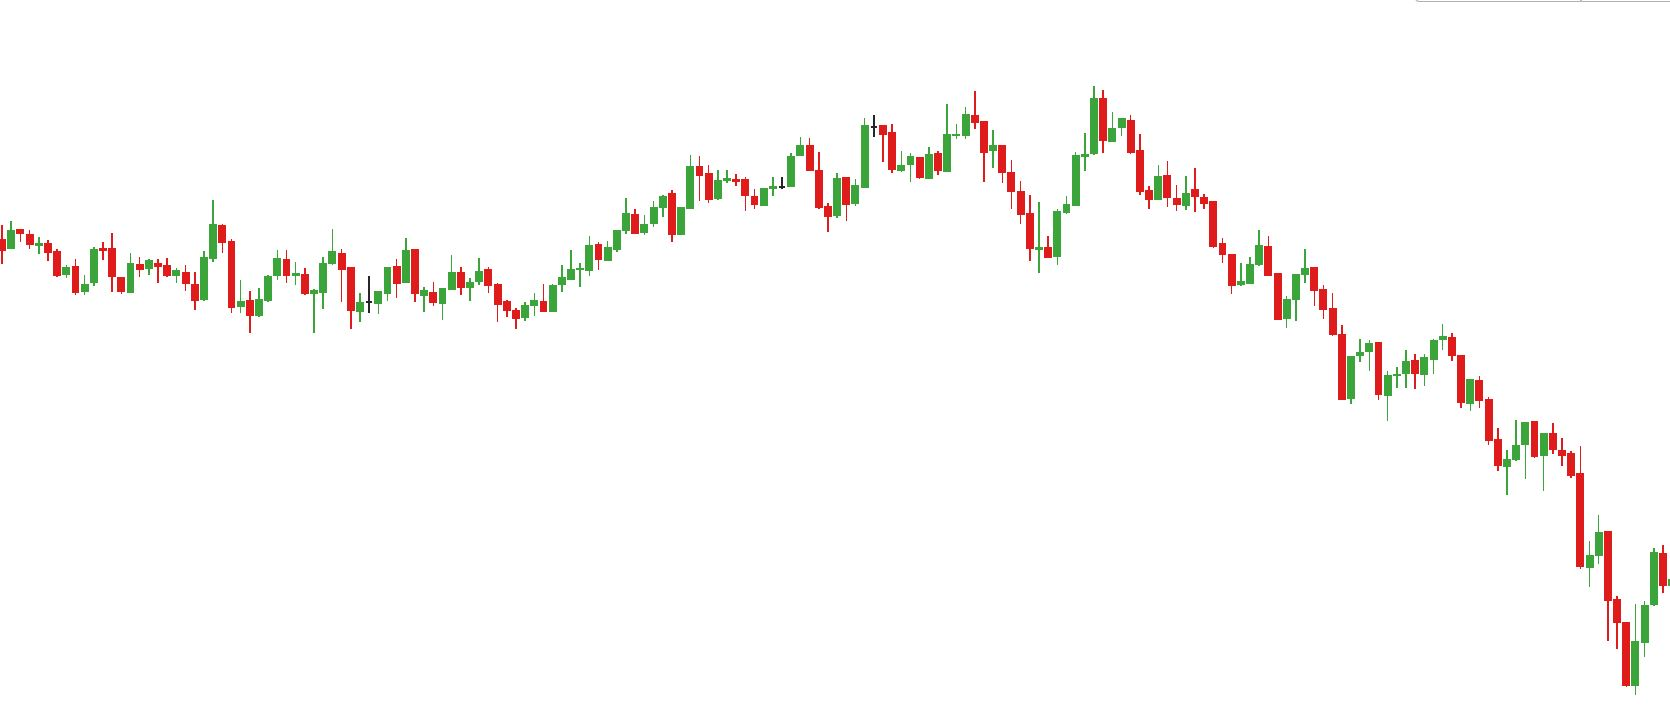sell: (972, 86, 1110, 209), (795, 107, 898, 193), (1356, 321, 1456, 387)
